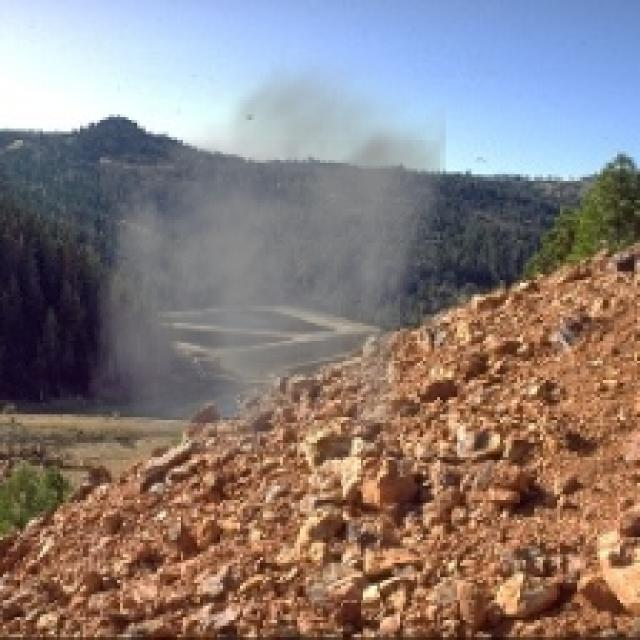smoke: (88, 49, 446, 454)
